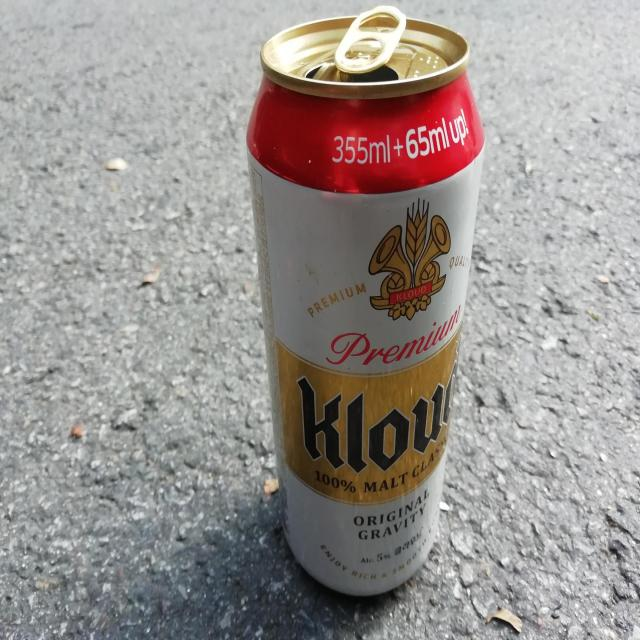can: (247, 6, 485, 595)
